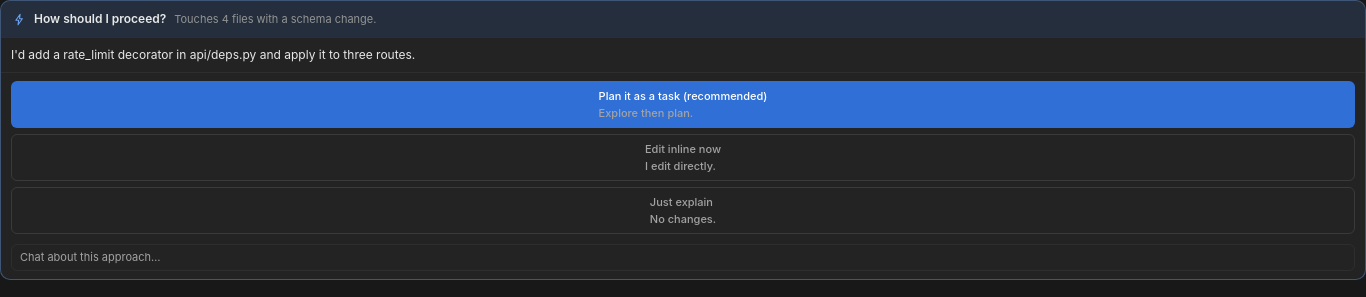
Scenario: ModeGate — pick a mode › is one-shot — all option buttons gone after a pick
Click the button "Just explain No changes.": (683, 210) left=11, top=187, right=1355, bottom=234
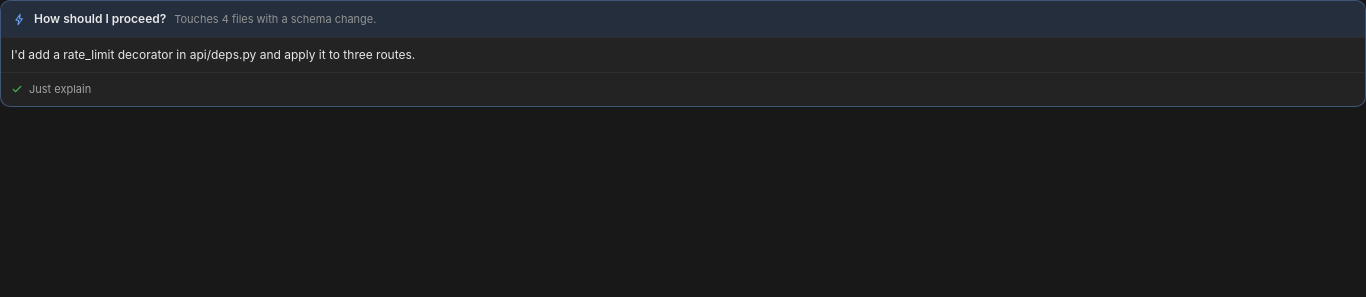
Check: the button "Plan it as a task" is gone
Check: the button "Edit inline now" is gone
